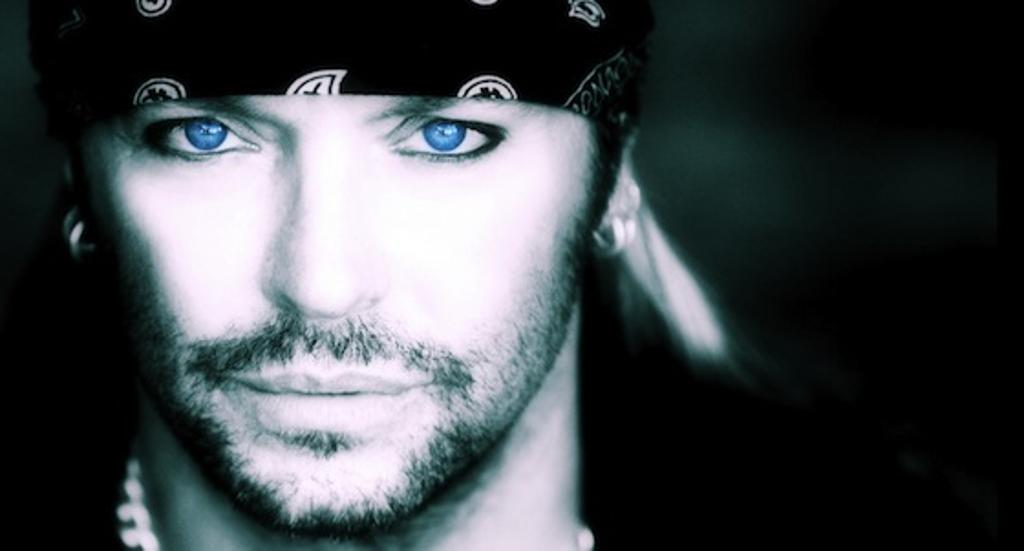face: (104, 10, 586, 518)
